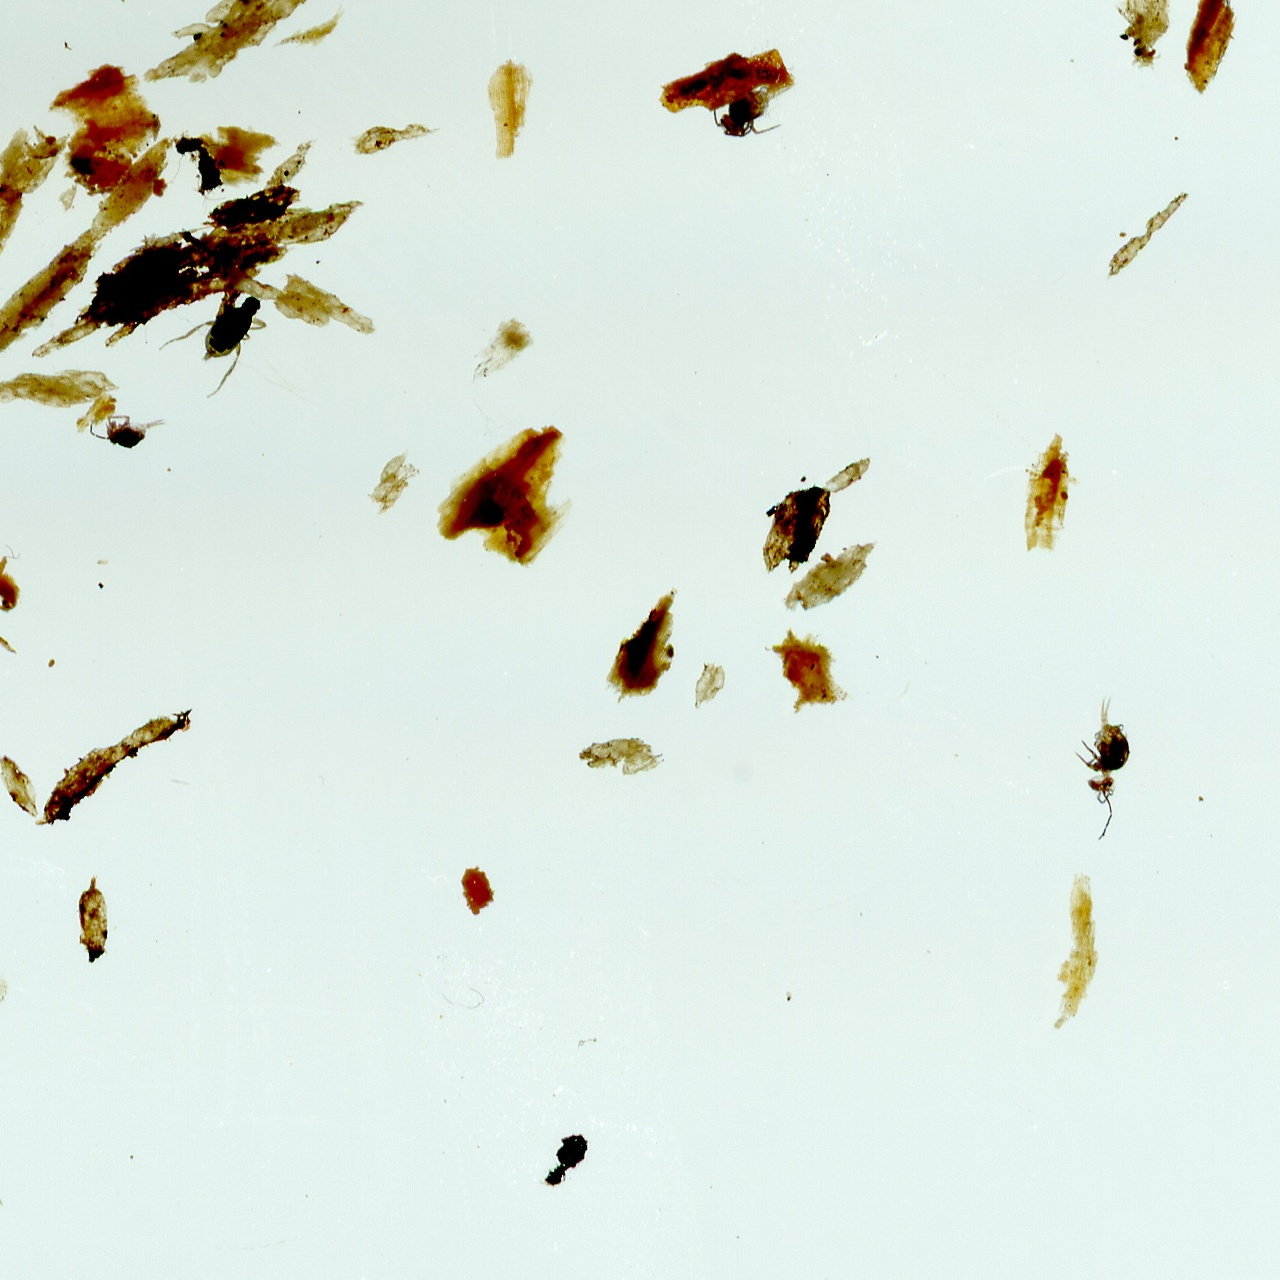arthropod: (148, 262, 287, 407), (1072, 693, 1134, 843), (711, 82, 783, 143), (87, 411, 169, 451)
